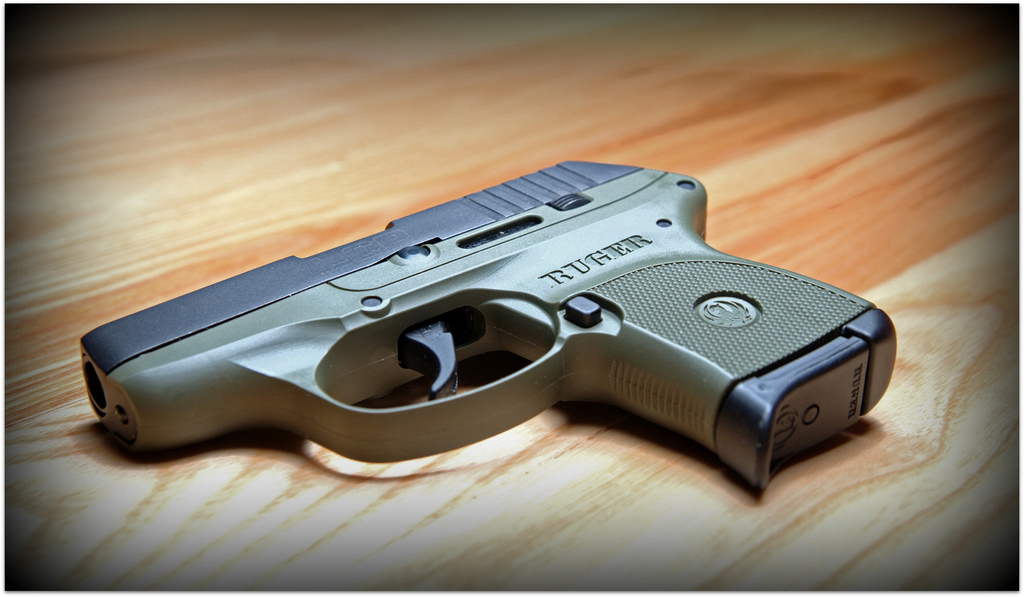gun: (60, 149, 939, 518)
